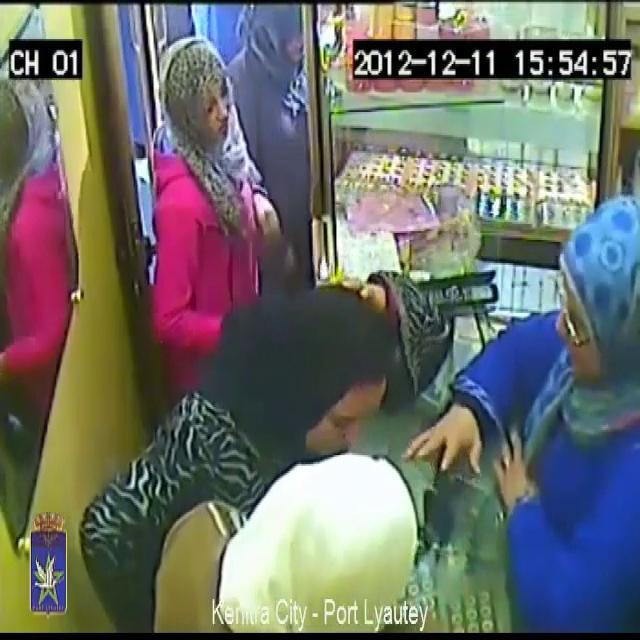normal: (466, 138, 639, 640), (132, 424, 450, 640), (131, 0, 244, 256), (252, 236, 384, 453), (228, 0, 314, 192)
